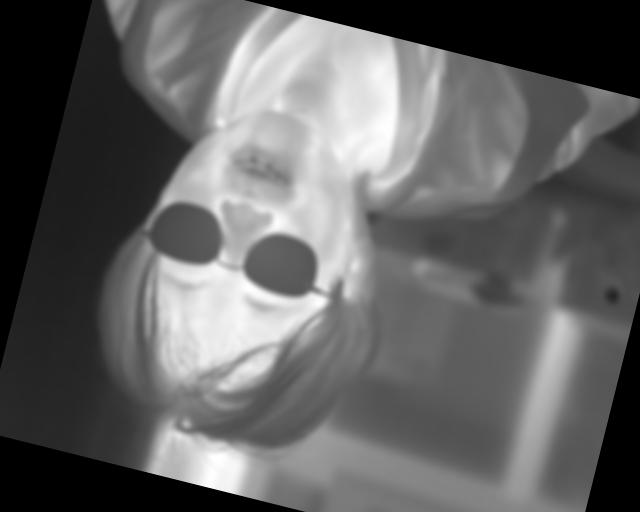face: (67, 76, 415, 482)
